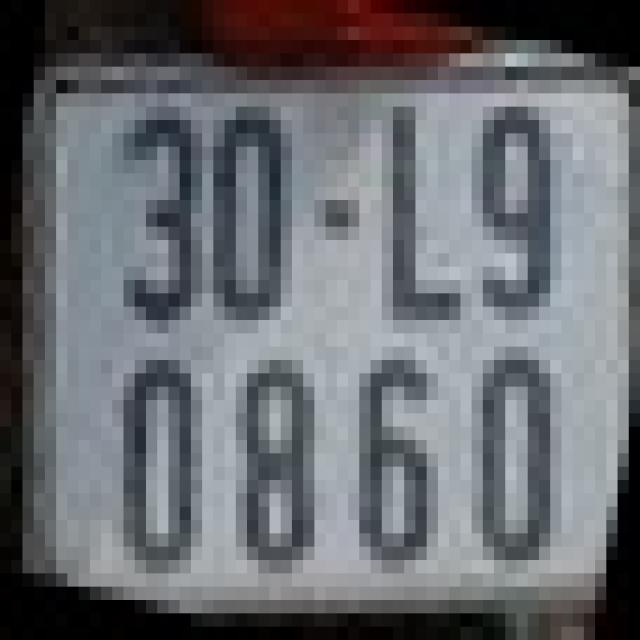0: (213, 107, 292, 320), (124, 360, 202, 573), (472, 347, 550, 560)
3: (124, 107, 202, 320)
6: (359, 347, 438, 560)
8: (236, 360, 314, 573)
9: (472, 107, 550, 320)
L: (382, 107, 460, 320)
